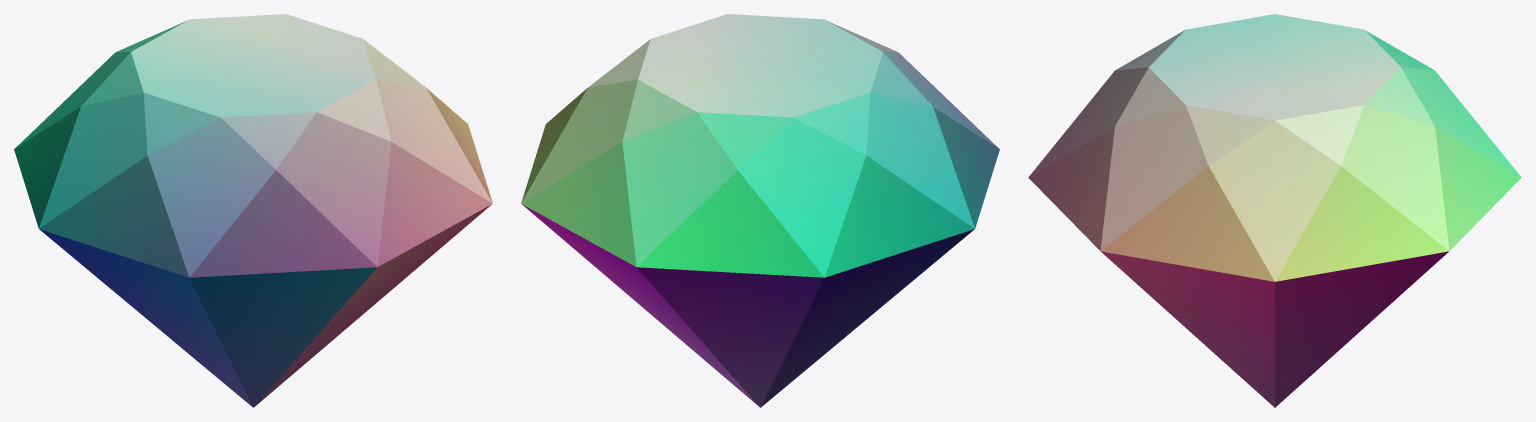
The model's file is Diamond_4.fbx.
The picture shows the model from 3 angles, left to right: view 1: azimuth 30°, elevation 25°; view 2: azimuth 150°, elevation 25°; view 3: azimuth 270°, elevation 25°; orthographic projection.
Parts seen in each view (by area): view 1: Diamond_4; view 2: Diamond_4; view 3: Diamond_4.
Boxes of the visible parts, x1=… form: Diamond_4: x1=14, y1=14, x2=492, y2=407; Diamond_4: x1=521, y1=14, x2=999, y2=407; Diamond_4: x1=1028, y1=14, x2=1521, y2=407.
Size of the model in its own units: 157 by 120 by 157.
